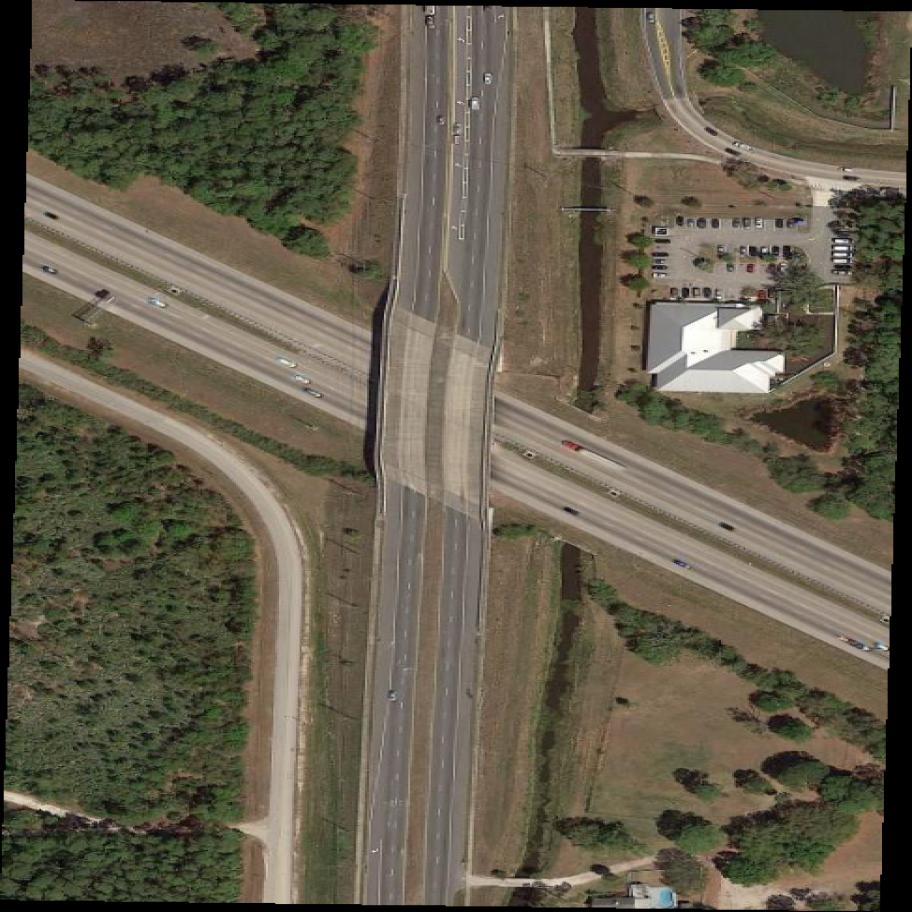large-vehicle: (560, 438, 627, 476)
small-vehicle: (302, 385, 327, 401), (277, 356, 300, 372), (292, 373, 313, 388), (719, 520, 738, 536), (149, 297, 170, 311), (734, 142, 757, 154), (41, 264, 60, 278), (562, 505, 582, 518), (670, 559, 693, 570), (423, 16, 438, 31), (770, 244, 783, 261), (43, 210, 60, 222), (725, 148, 743, 159), (706, 125, 721, 138), (738, 244, 749, 261), (831, 238, 854, 246), (470, 97, 483, 111), (749, 244, 760, 260), (760, 247, 772, 261), (831, 245, 854, 252), (715, 287, 725, 302), (831, 258, 856, 264), (768, 288, 779, 301), (390, 690, 401, 703), (436, 116, 448, 127), (755, 218, 766, 230), (726, 263, 739, 273), (670, 287, 680, 300), (717, 245, 727, 258), (682, 288, 693, 299), (697, 218, 708, 229), (775, 219, 787, 229), (743, 218, 753, 230), (704, 287, 713, 300), (835, 264, 854, 270), (757, 290, 768, 300), (787, 219, 798, 229), (732, 219, 742, 230), (455, 123, 464, 135), (485, 74, 494, 86), (837, 167, 854, 173), (695, 288, 704, 299), (712, 219, 721, 230), (831, 271, 854, 275), (747, 264, 757, 273), (654, 273, 669, 279), (654, 265, 669, 271), (655, 239, 670, 245), (844, 176, 861, 181), (650, 12, 657, 24), (833, 253, 854, 257), (678, 216, 685, 228), (687, 219, 695, 229), (654, 252, 669, 257)
